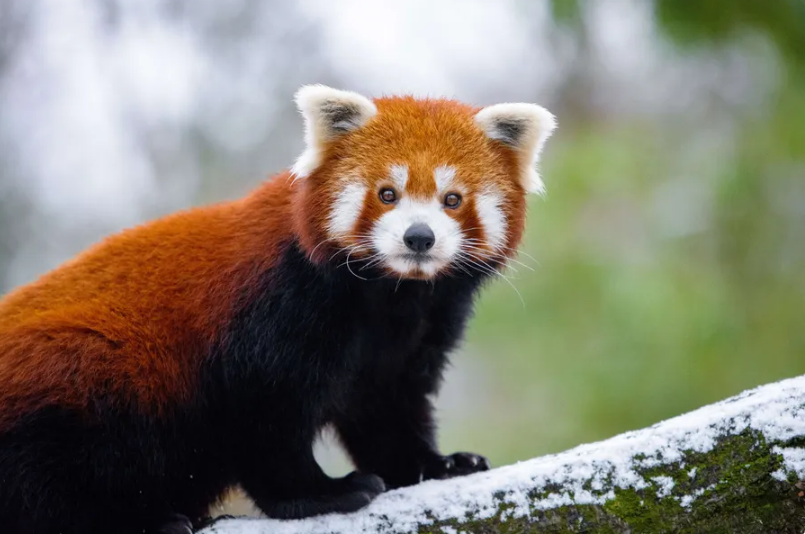red_panda: (268, 80, 573, 323)
